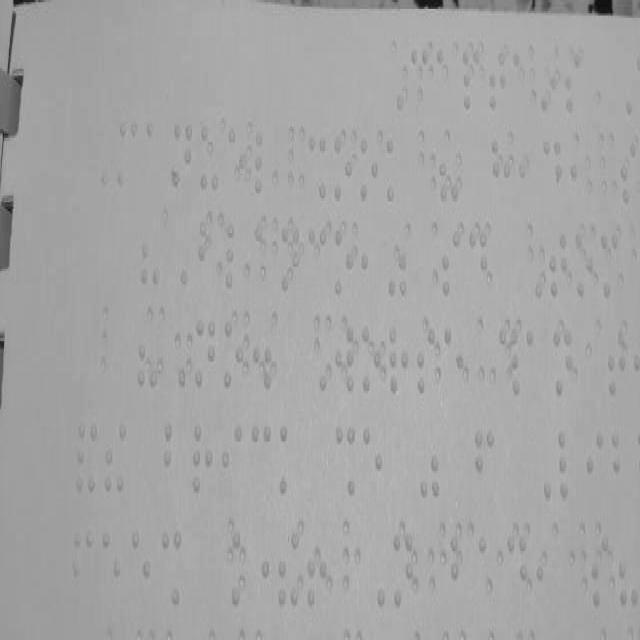braiile: (128, 524, 154, 614), (70, 526, 96, 612), (98, 528, 124, 614), (390, 526, 414, 616), (588, 528, 612, 614), (549, 327, 575, 402), (388, 314, 410, 402), (547, 224, 571, 304), (332, 221, 356, 299), (220, 421, 244, 499), (248, 421, 272, 499), (276, 421, 300, 499), (360, 319, 384, 397), (608, 426, 632, 504), (190, 418, 213, 498), (168, 118, 192, 194), (540, 136, 564, 212), (442, 322, 466, 398), (605, 324, 629, 400), (582, 428, 606, 504), (506, 533, 530, 609), (116, 112, 138, 194), (473, 427, 497, 502), (361, 423, 384, 501), (199, 118, 221, 198), (224, 216, 246, 296), (278, 218, 300, 298), (162, 418, 185, 493), (143, 114, 165, 192), (228, 123, 250, 201), (254, 123, 276, 201), (334, 319, 356, 397), (414, 319, 436, 397), (574, 228, 596, 306), (195, 313, 217, 389), (222, 316, 244, 392), (476, 528, 498, 604), (198, 216, 220, 291), (252, 221, 274, 295), (524, 326, 544, 404), (490, 137, 512, 206), (467, 226, 488, 298), (305, 226, 327, 294), (385, 134, 405, 208), (488, 45, 508, 119), (512, 43, 532, 117), (600, 230, 620, 304), (359, 128, 378, 204), (434, 44, 454, 116), (563, 46, 583, 118), (441, 226, 461, 298), (461, 46, 482, 114), (333, 133, 353, 204), (409, 44, 428, 116)
